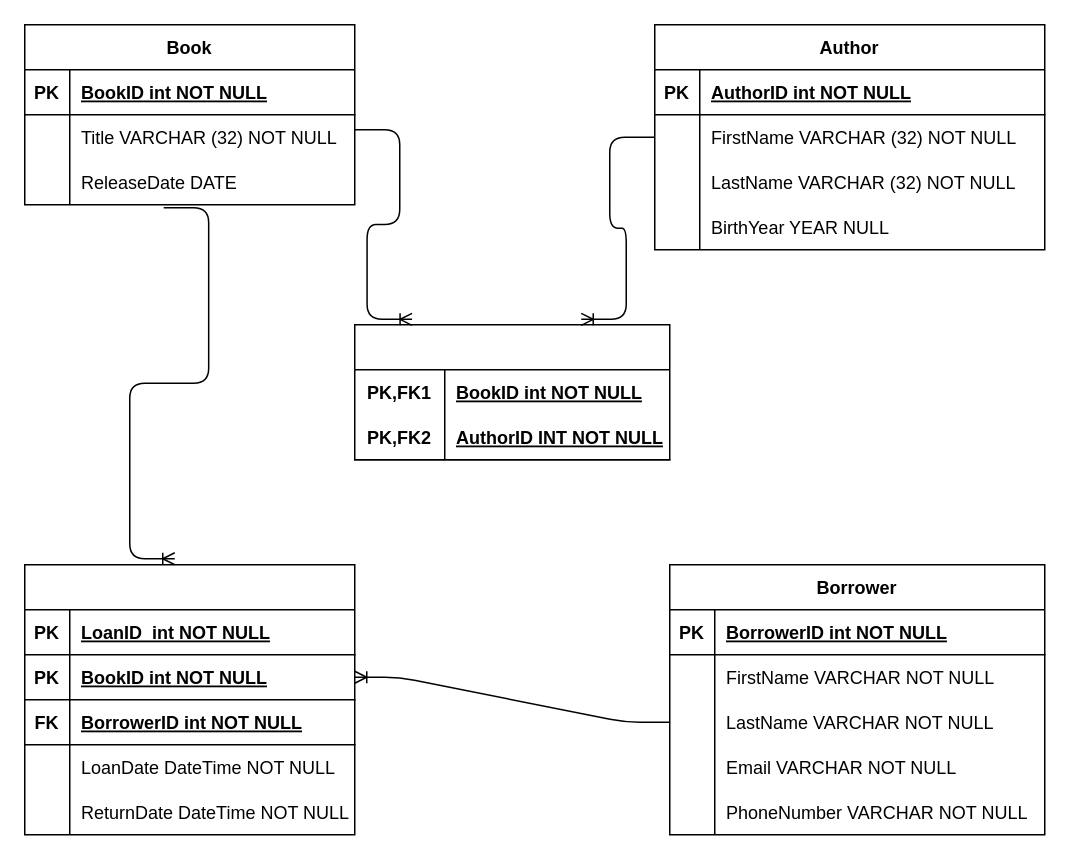
The diagram is 1070 pixels wide and 860 high, and some of its shapes have lost their labels. The box of each missing label's shape, as (x1, y1, x2, y2) in pixels:
BookAuthor: (353, 323, 670, 460)
Lending: (23, 563, 355, 835)
